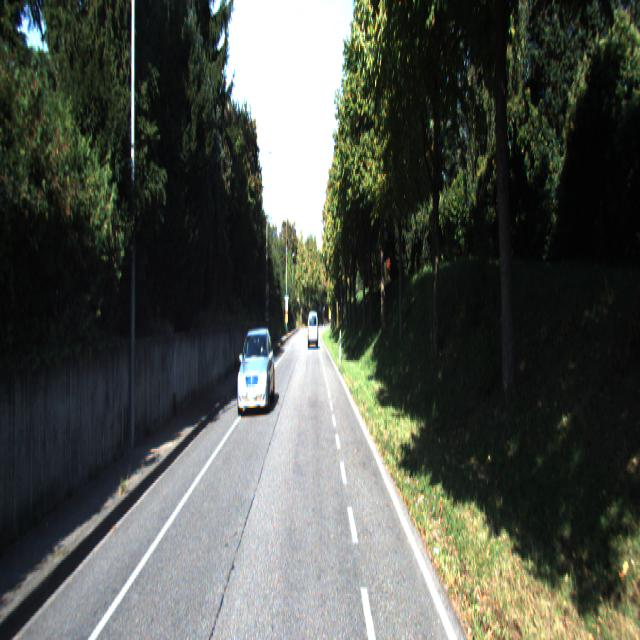Car: (235, 326, 276, 420), (307, 310, 319, 349)
